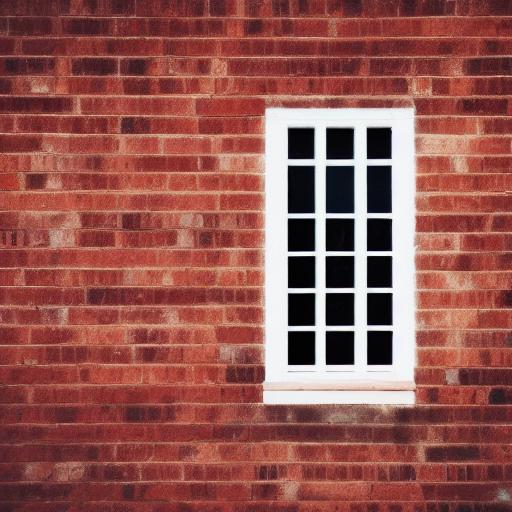Window: (259, 105, 419, 410)
